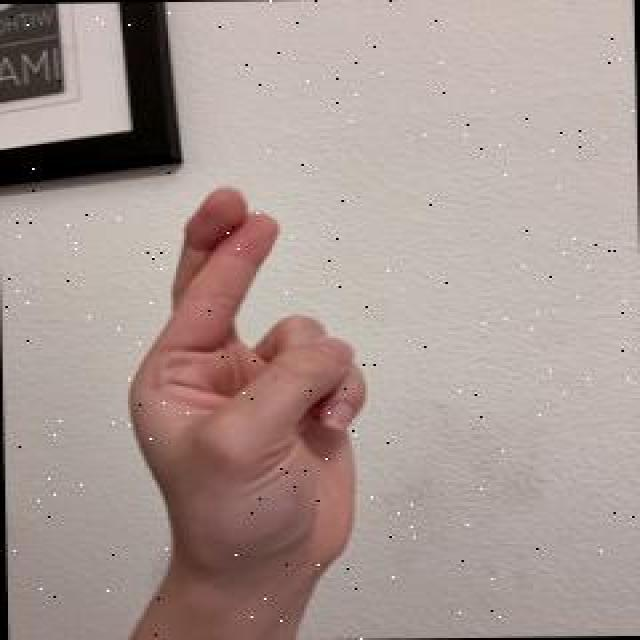R: (113, 179, 380, 601)
